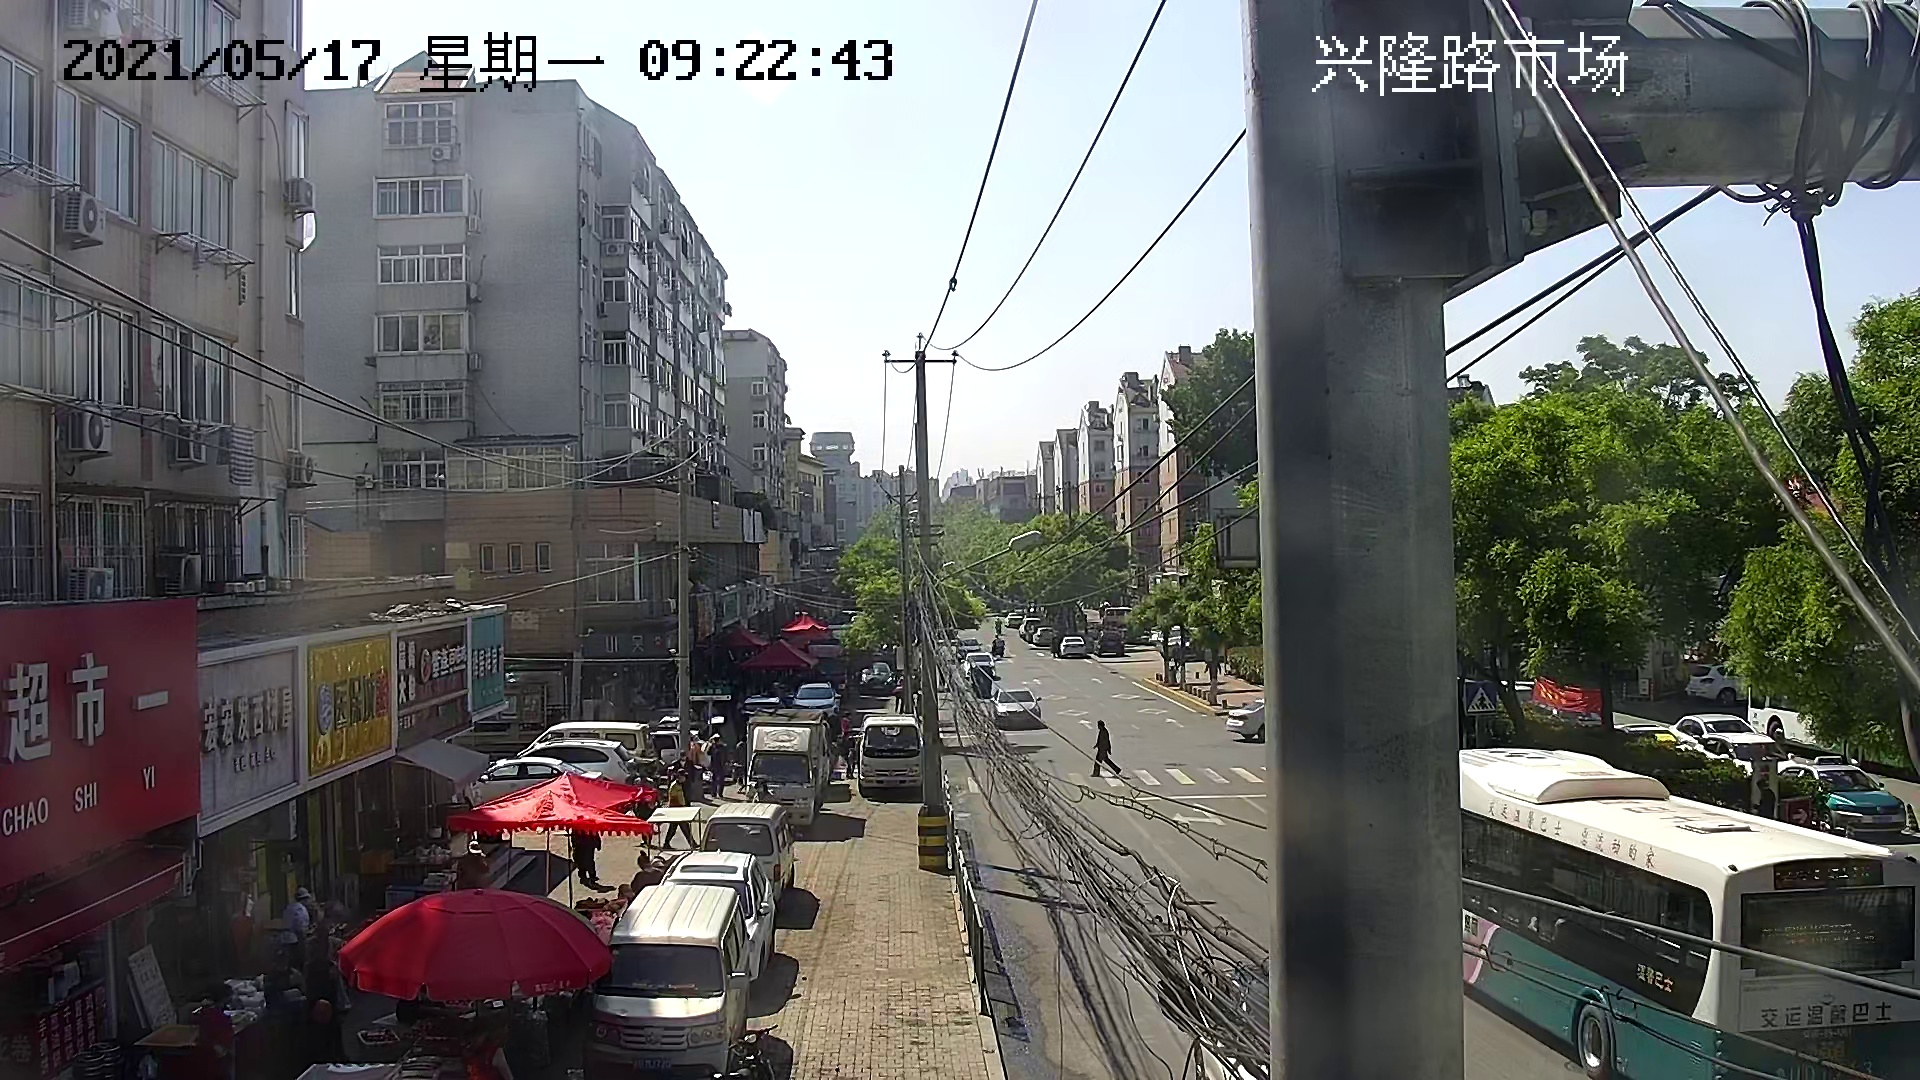umbrella: (332, 886, 615, 1001), (444, 787, 654, 837), (472, 770, 658, 816), (736, 637, 820, 670), (708, 622, 767, 647), (781, 611, 829, 636)
